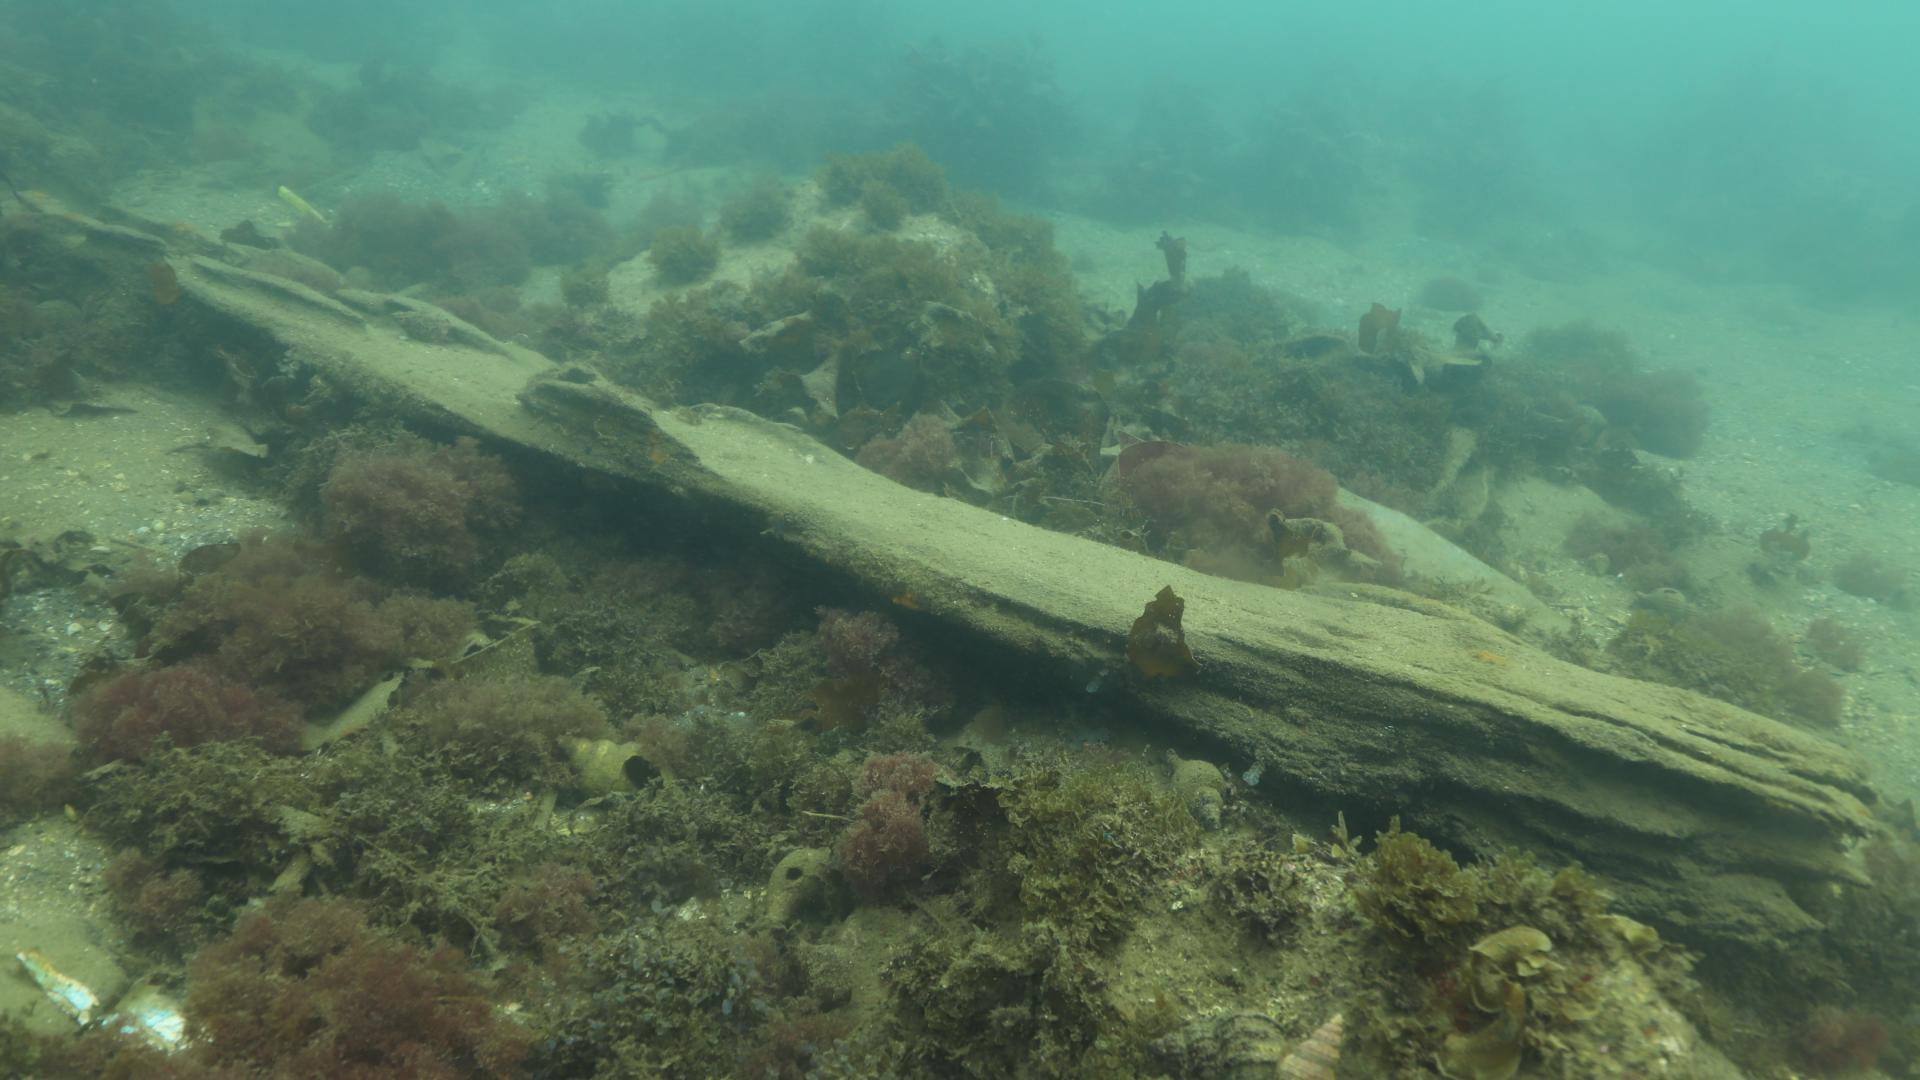wood: (164, 237, 1876, 951)
